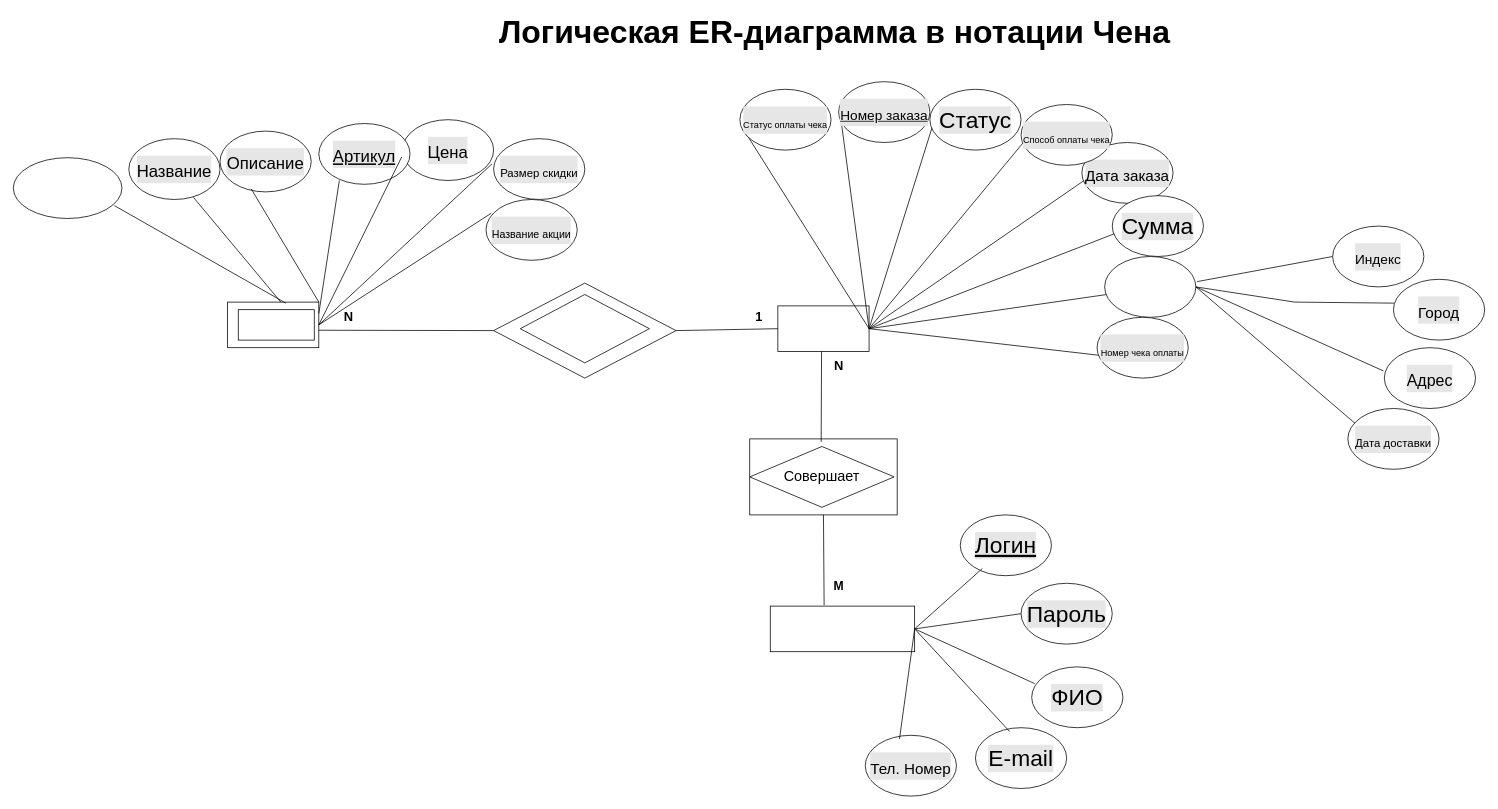
This 1498x809 diagram has some shape labels left out. The centre of each missing label's shape, as x and y in pixels:
Cостоит из: the point at 584,328
Данные о доставке: the point at 1150,286
Заказ: the point at 823,328
Пользователь: the point at 842,628
Товар: the point at 276,324
Цена с учетом скидки: the point at 67,187
